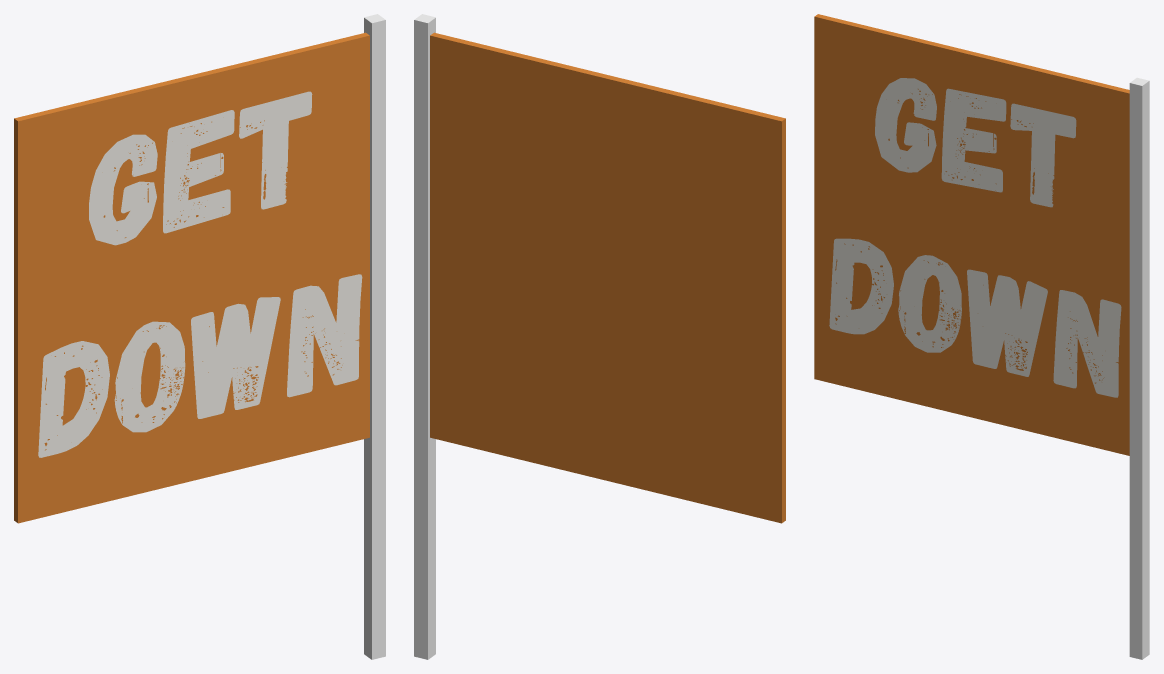
Rendered from ObstacleRight.fbx.
The picture shows the model from 3 angles, left to right: view 1: azimuth 30°, elevation 25°; view 2: azimuth 150°, elevation 25°; view 3: azimuth 330°, elevation 25°; orthographic projection. The views are drawn at different scales.
Parts seen in each view (by area): view 1: Cube.004, Text.001; view 2: Cube.004; view 3: Cube.004, Text.001.
Part boxes in pixels (x1,y1,x2,y2): Cube.004: (14,14,385,659); Text.001: (38,91,362,457); Cube.004: (414,14,785,659); Cube.004: (814,14,1149,659); Text.001: (829,78,1121,397).
Size of the model in its own units: 183 by 305 by 7.
